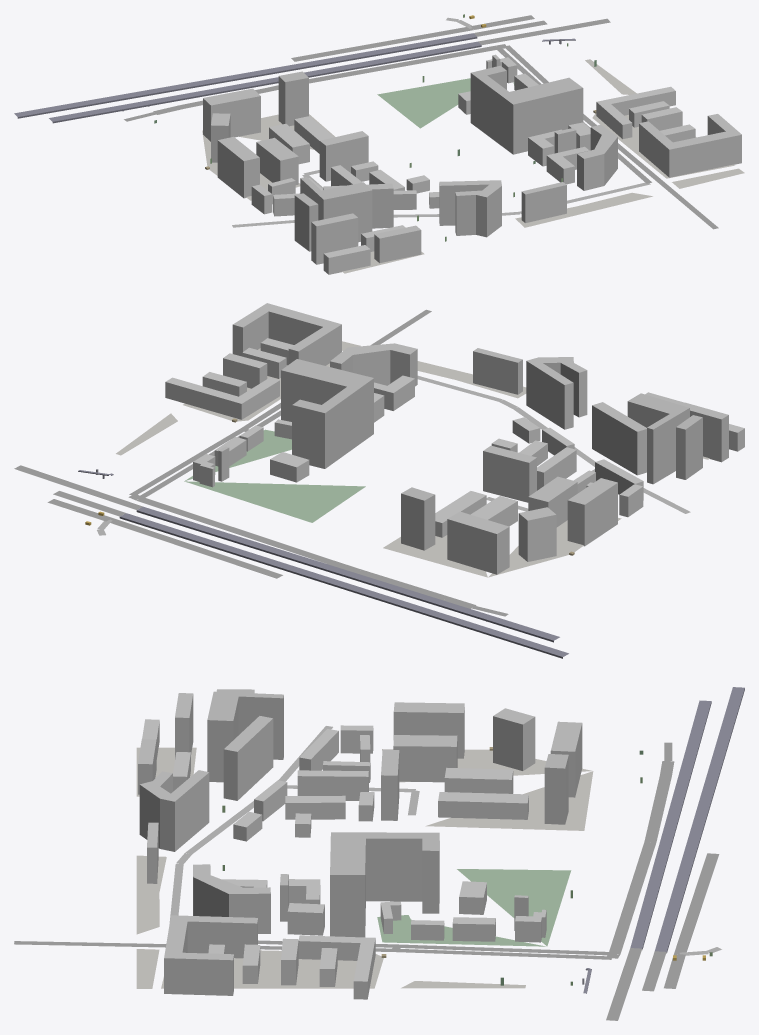
3 views of the same model, one above another, from view 1: azimuth 30°, elevation 25°; view 2: azimuth 150°, elevation 25°; view 3: azimuth 270°, elevation 25° (orthographic). The views are drawn at different scales.
Size of the model in its own units: 679 by 63.31 by 630.
